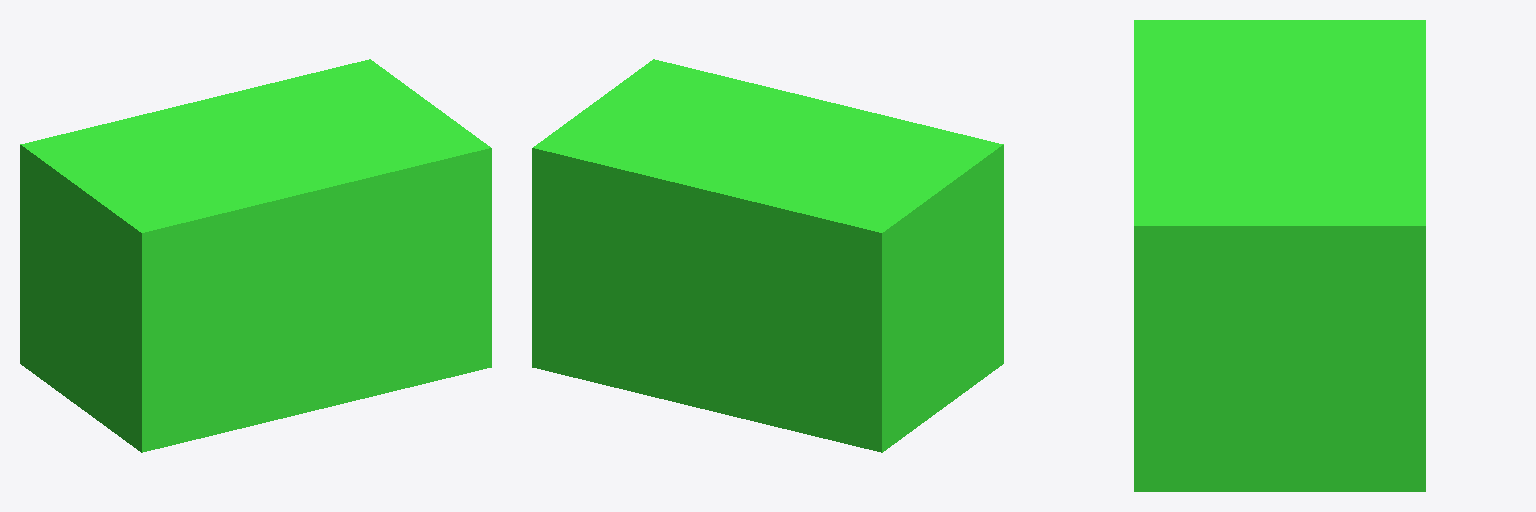
URDF robot description (CubeLifeSize_v2_60_100):
<robot name="CubeLifeSize_v2_60_100">
	<link name="object">
		<visual>
			<origin rpy="0.0 0.0 0.0" xyz="0.0 0.0 -0.6" />
			<geometry>
				<mesh filename="CubeLifeSize_v2_60_100/CubeLifeSize_v2_60_100.obj" scale="0.02 0.02 0.02" />
			</geometry>
			<material name="texture">
				<color rgba="0.3 1.0 0.3 1.0" />
			</material>
		</visual>
		<collision>
			<origin rpy="0.0 0.0 0.0" xyz="0.0 0.0 -0.6" />
			<geometry>
				<mesh filename="CubeLifeSize_v2_60_100/CubeLifeSize_v2_60_100_vhacd.obj" scale="0.02 0.02 0.02" />
			</geometry>
		</collision>
		<inertial>
			<mass value="0.020" />
			<inertia ixx="1.0" ixy="0.0" ixz="0.0" iyy="1.0" iyz="0.0" izz="1.0" />
		</inertial>
	</link>
</robot>

--- What the picture shows (computed from the rendered views, not written in the file) ---
3 views of the same robot in one strip: view 1: azimuth 30°, elevation 25°; view 2: azimuth 150°, elevation 25°; view 3: azimuth 270°, elevation 25° (orthographic).
Model CubeLifeSize_v2_60_100 with 1 links and 0 joints (none), rooted at object, posed all joints at 0.
Visible links, largest first — view 1: object; view 2: object; view 3: object.
Boxes of the visible links, left/top/right/bottom form: object: left=20, top=59, right=491, bottom=452; object: left=532, top=59, right=1003, bottom=452; object: left=1134, top=20, right=1425, bottom=491.
Bounding box of the posed robot: 2 × 1.2 × 1.2 m (x, y, z).
Meshes: 1 distinct files referenced, 1 mesh visuals loaded (1 OBJ).